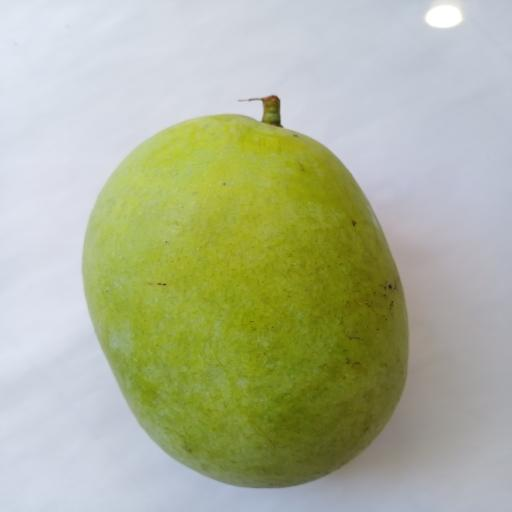mango-unripe: (55, 64, 435, 506)
